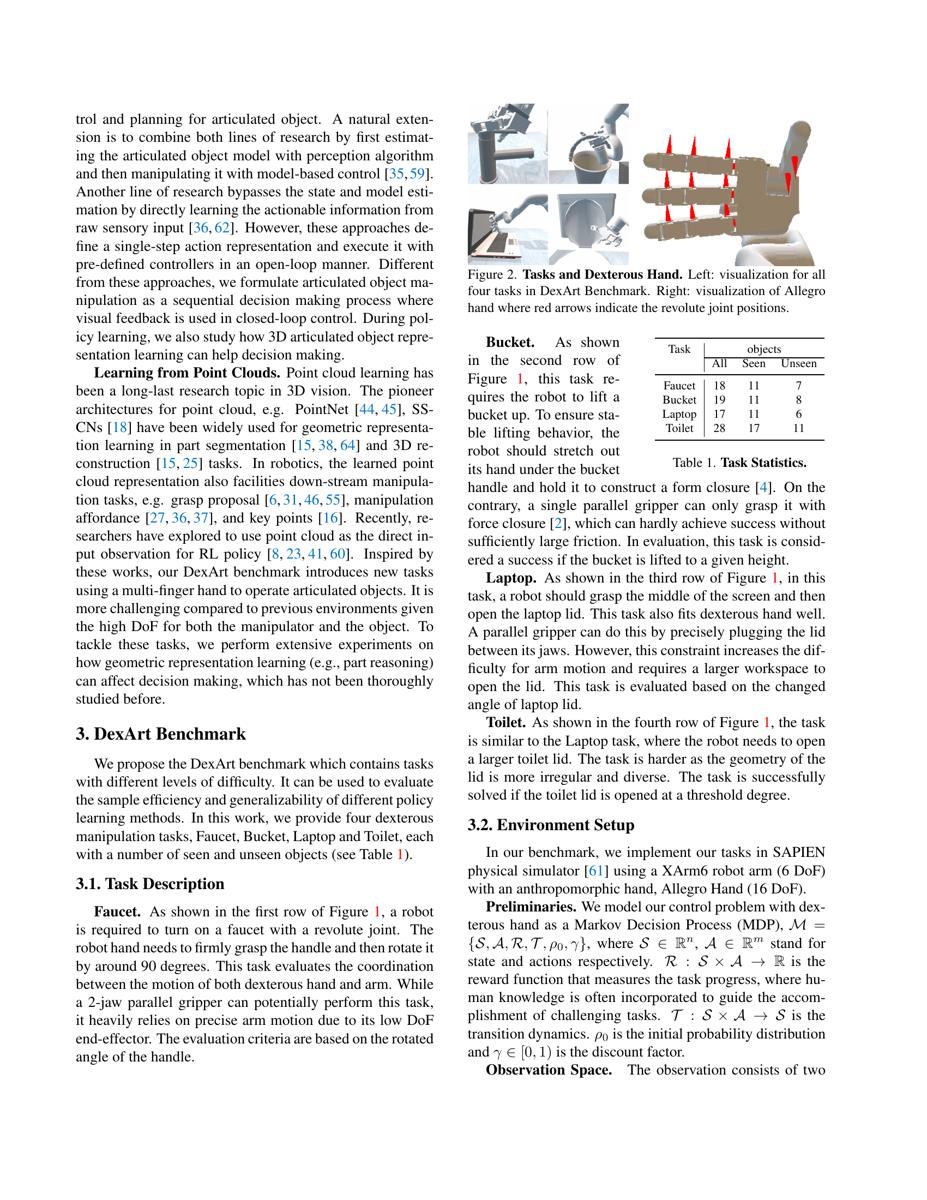figure: (463, 98, 830, 319)
table: (652, 333, 829, 474)
text: (69, 362, 438, 711), (69, 721, 438, 1069), (462, 479, 830, 807), (462, 814, 830, 1083), (69, 106, 438, 363), (462, 331, 626, 478)
